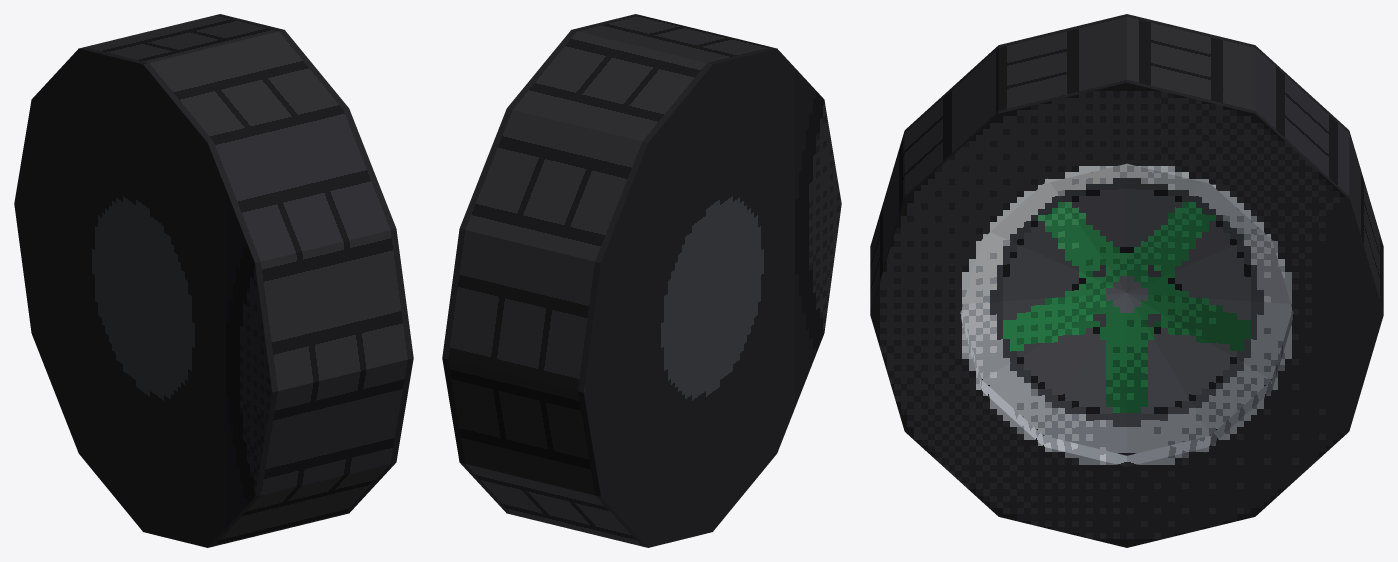
File: wheel_five.glb
3 views of the same model, side by side, from view 1: azimuth 30°, elevation 25°; view 2: azimuth 150°, elevation 25°; view 3: azimuth 270°, elevation 25° (orthographic).
Visible parts, largest first — view 1: wheel_five; view 2: wheel_five; view 3: wheel_five.
Boxes of the visible parts, <box> form: wheel_five: <box>14,14,413,547</box>; wheel_five: <box>442,14,841,547</box>; wheel_five: <box>870,14,1383,547</box>.
Bounding box in the file's own units: 0.185 × 0.5845 × 0.5845.
Materials: 1 (1 with a texture image).
